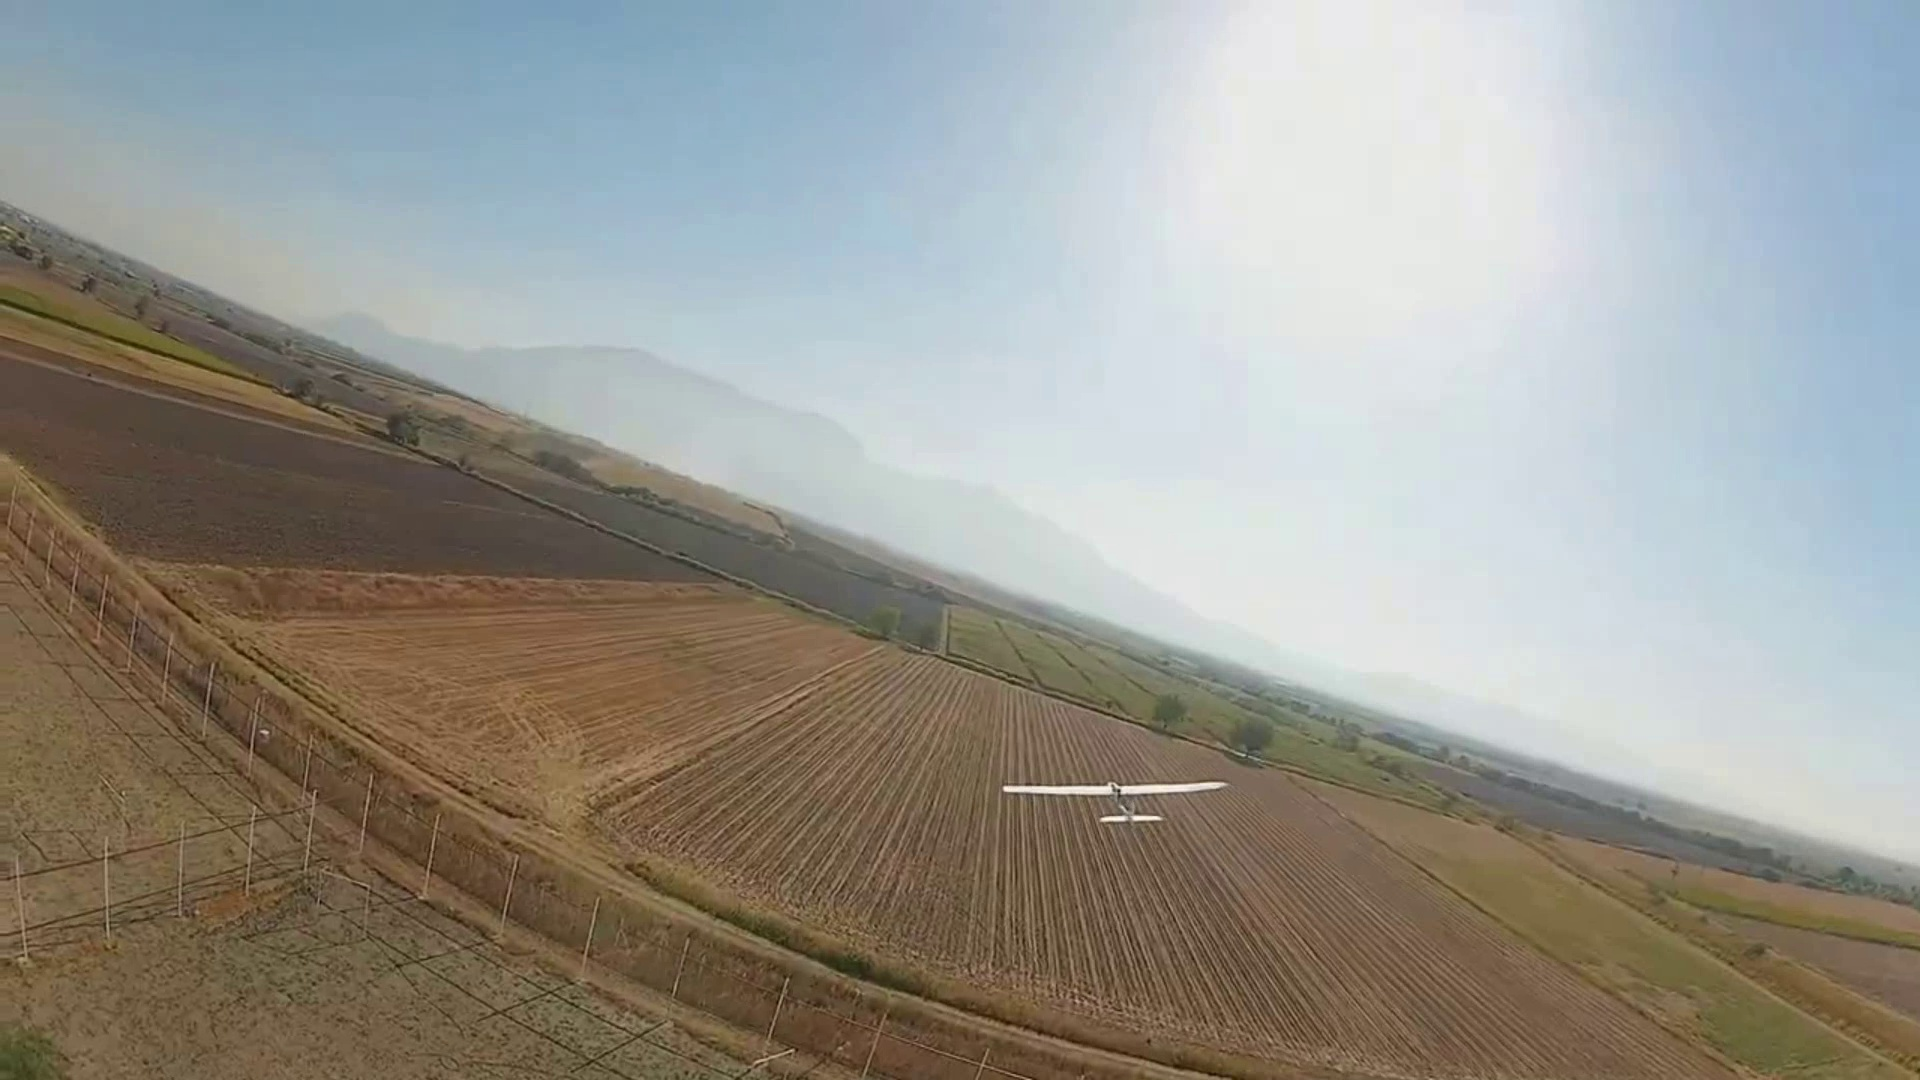airplane: (5, 248, 1913, 916)
